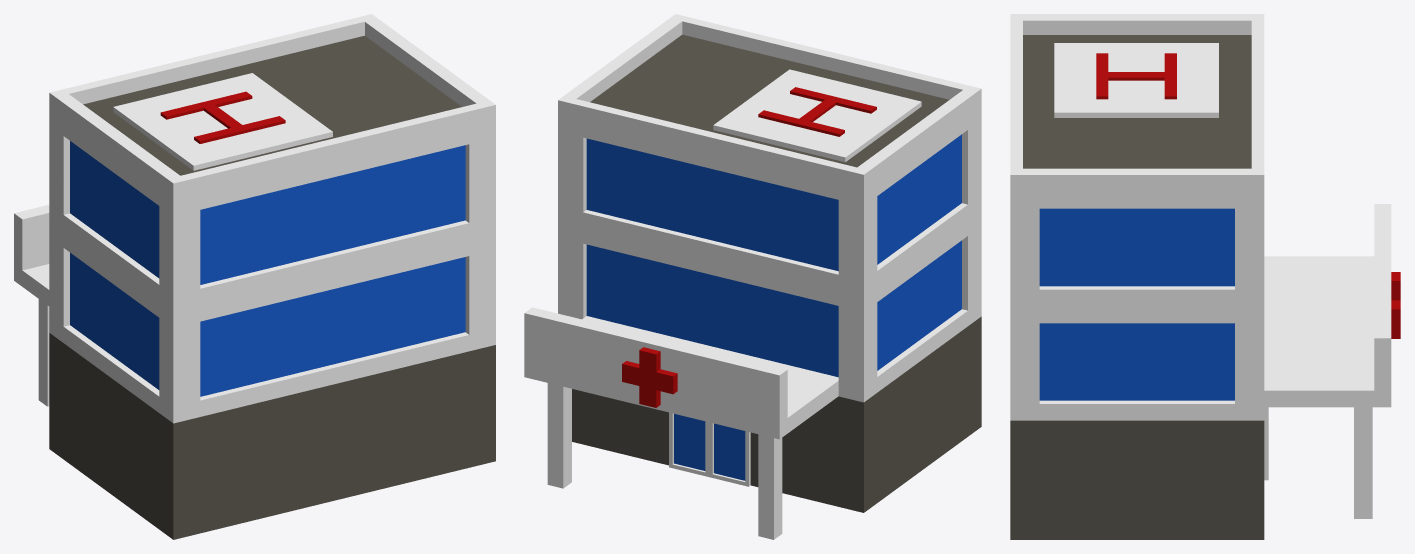
Rendered from CityBuildingHospital.fbx.
3 views of the same model, side by side, from view 1: azimuth 30°, elevation 25°; view 2: azimuth 150°, elevation 25°; view 3: azimuth 270°, elevation 25° (orthographic). The views are drawn at different scales.
Visible parts, largest first — view 1: CityBuildingHospital; view 2: CityBuildingHospital; view 3: CityBuildingHospital.
Part boxes in pixels (bbox=[...]): CityBuildingHospital: bbox=[14, 14, 495, 539]; CityBuildingHospital: bbox=[524, 14, 981, 539]; CityBuildingHospital: bbox=[1010, 14, 1400, 539].
Size of the model in its own units: 1 by 1.06 by 1.02.
